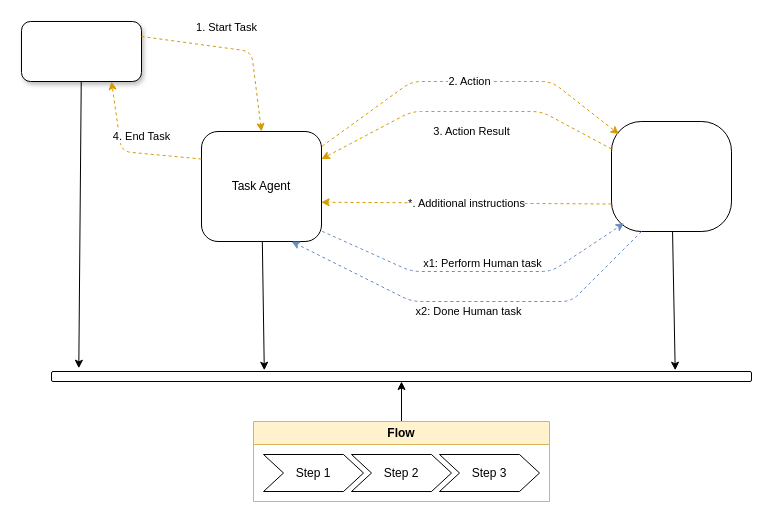
Image size: 769x519. Some labels were removed from this diagram. Each missing label, with the centre of its shape:
"App Agent" belongs at [671,176].
"Plan Agent" belongs at [82,52].
